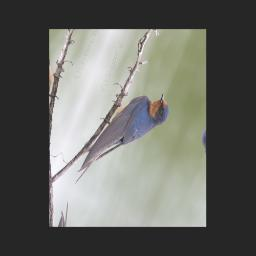Swallow: (72, 71, 176, 210)
